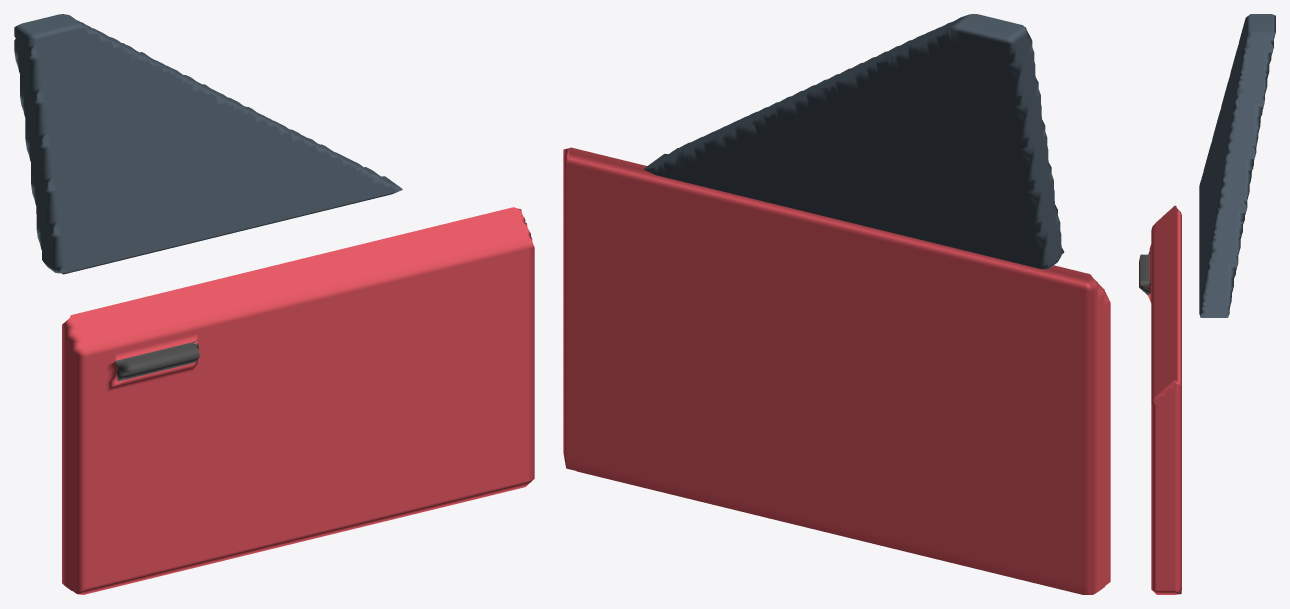
File: door_right.glb
3 renders of one model, left to right at view 1: azimuth 30°, elevation 25°; view 2: azimuth 150°, elevation 25°; view 3: azimuth 270°, elevation 25°, orthographic. The views are drawn at different scales.
Parts seen in each view (by area): view 1: door_right; view 2: door_right; view 3: door_right.
Boxes of the visible parts, x1,y1,x2,y2 form: door_right: (14,14,534,594); door_right: (563,14,1110,594); door_right: (1139,14,1275,594).
Size of the model in its own units: 10.3 by 11.15 by 3.35.
